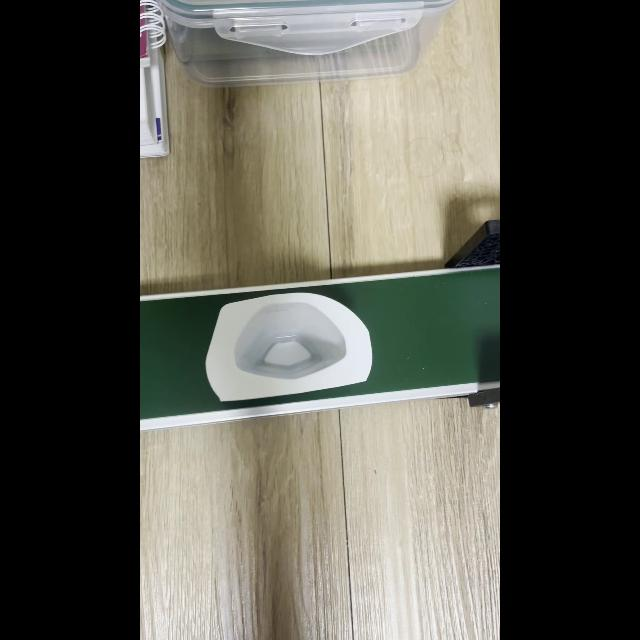clean: (209, 307, 365, 387)
